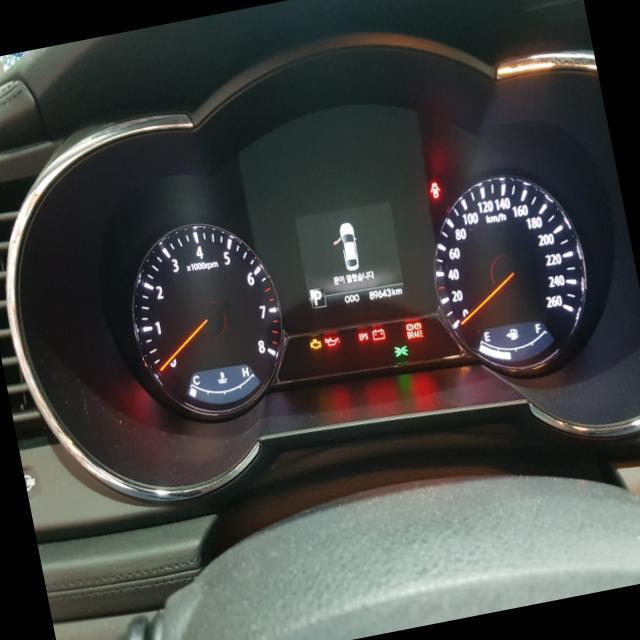Doors: (428, 181, 442, 199)
SideLamp: (392, 342, 408, 358)
